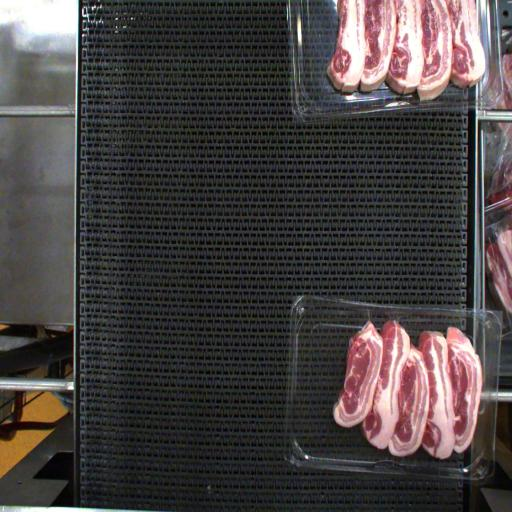packaging-error: (365, 304, 373, 322)
